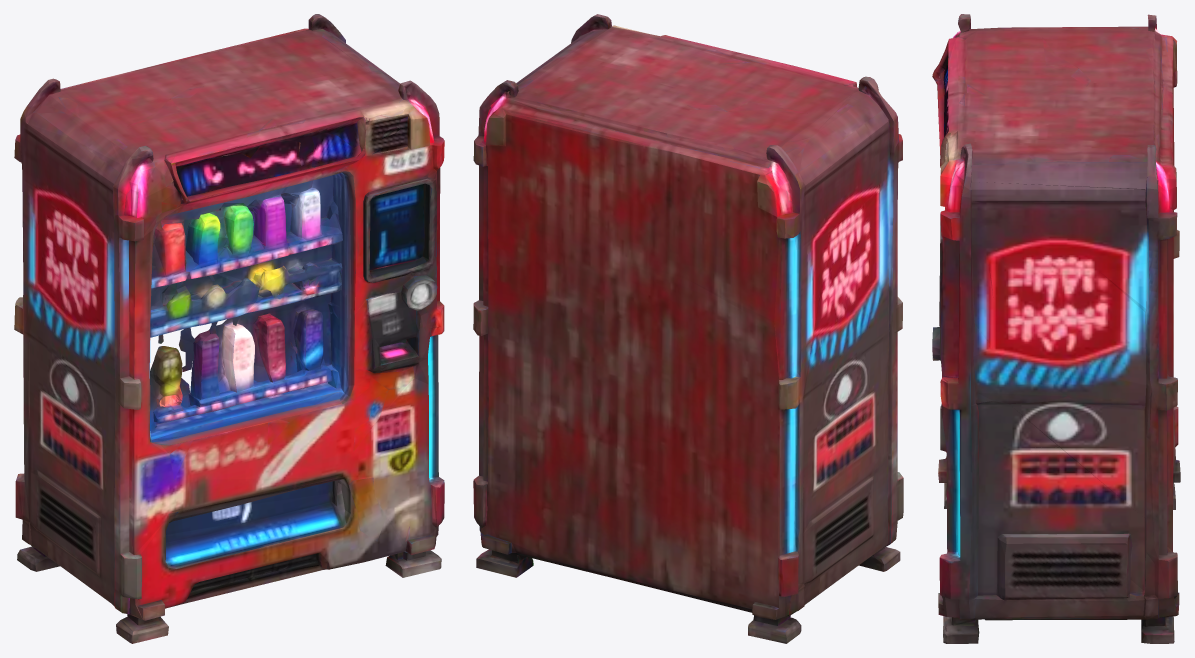
Rendered from vending.glb.
3 renders of one model, left to right at view 1: azimuth 30°, elevation 25°; view 2: azimuth 150°, elevation 25°; view 3: azimuth 270°, elevation 25°, orthographic.
Parts seen in each view (by area): view 1: geometry_0; view 2: geometry_0; view 3: geometry_0.
Boxes of the visible parts, x1,y1,x2,y2 form: geometry_0: (14, 14, 444, 643); geometry_0: (473, 14, 903, 643); geometry_0: (932, 14, 1180, 643).
Bounding box in the file's own units: 0.7013 × 1 × 0.4624.
Materials: 1 (1 with a texture image).
